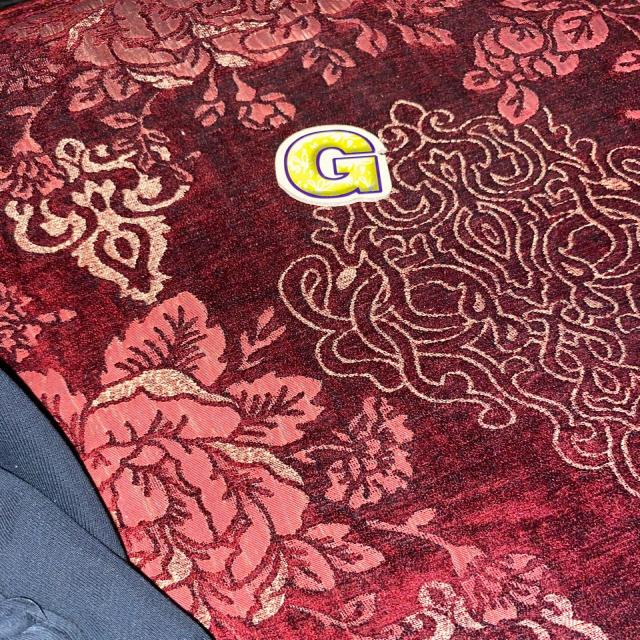G: (275, 125, 391, 206)
